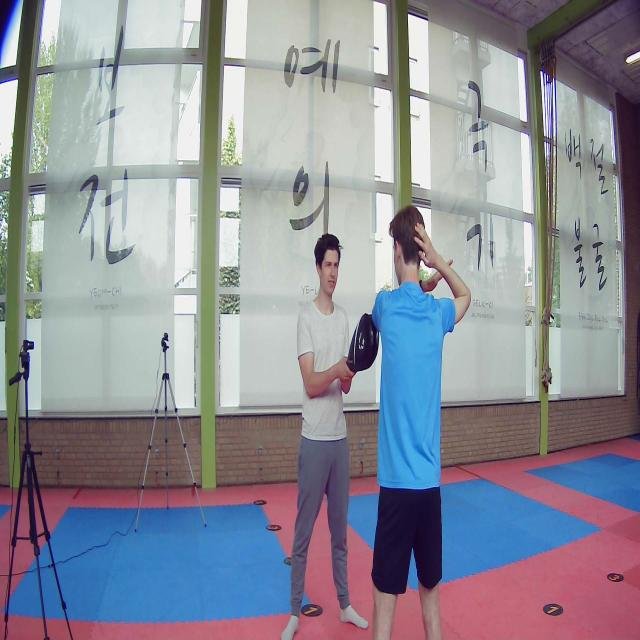paddle: (345, 313, 379, 373)
